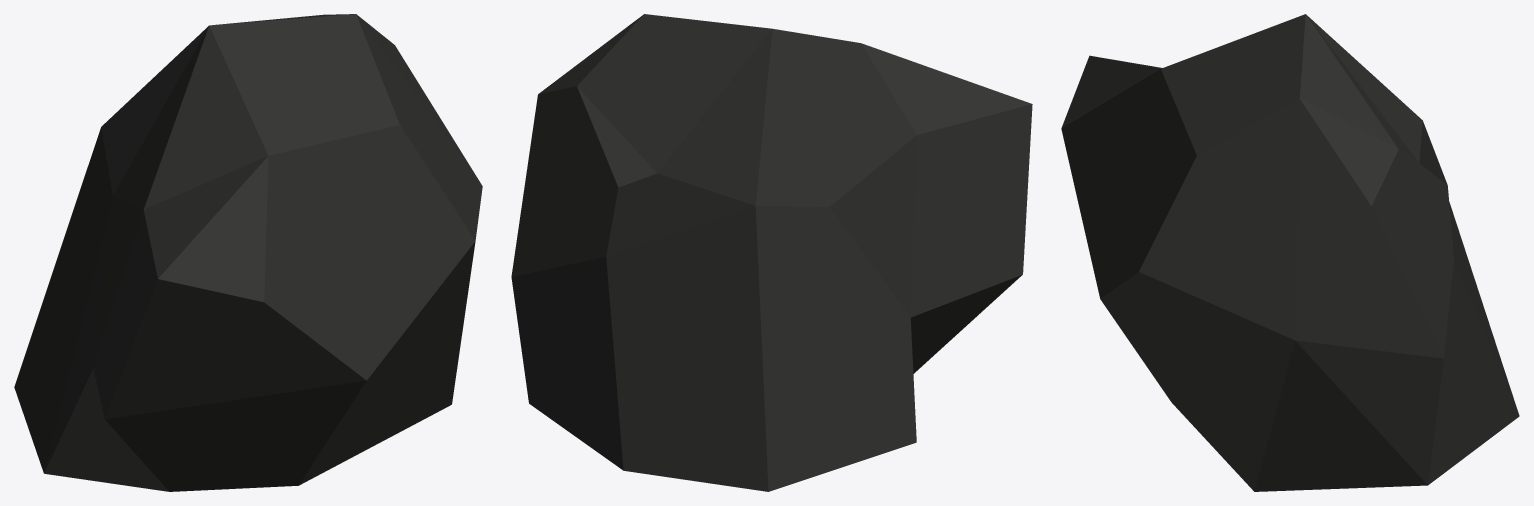
File: Stein1.fbx
3 renders of one model, left to right at view 1: azimuth 30°, elevation 25°; view 2: azimuth 150°, elevation 25°; view 3: azimuth 270°, elevation 25°, orthographic. The views are drawn at different scales.
Visible parts, largest first — view 1: Stein; view 2: Stein; view 3: Stein.
Part boxes in pixels (x1,y1,x2,y2): Stein: (14,14,482,491); Stein: (511,14,1032,491); Stein: (1061,14,1519,491).
Size of the model in its own units: 191 by 165 by 179.
